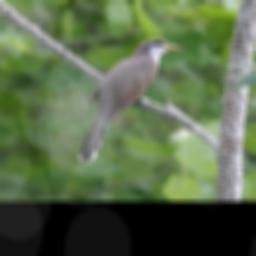Cuckoo: (74, 37, 184, 164)
